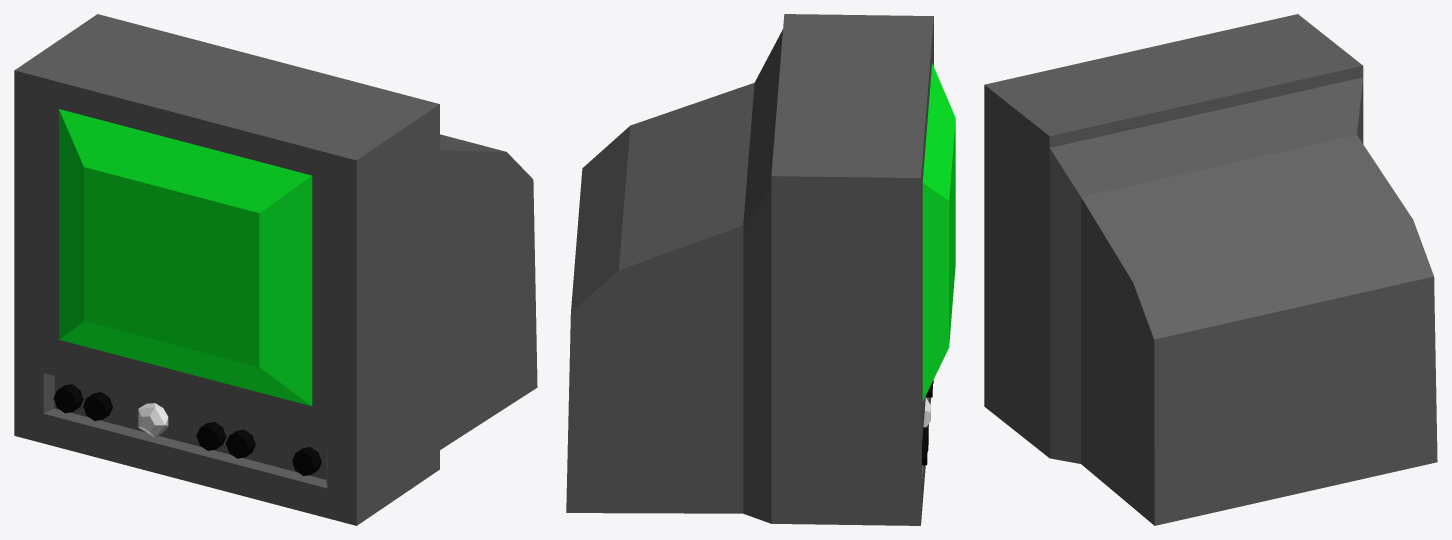
The picture shows the model from 3 angles, left to right: view 1: azimuth 30°, elevation 25°; view 2: azimuth 150°, elevation 25°; view 3: azimuth 270°, elevation 25°; orthographic projection. The views are drawn at different scales.
Parts seen in each view (by area): view 1: TV; view 2: TV; view 3: TV.
Boxes of the visible parts, left/top/right/bottom form: TV: left=14, top=14, right=537, bottom=525; TV: left=566, top=14, right=955, bottom=525; TV: left=984, top=14, right=1437, bottom=525.
Size of the model in its own units: 75.69 by 59.83 by 76.29.
